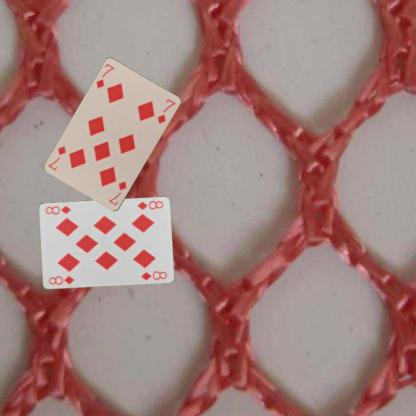7d: (106, 178, 128, 207), (94, 61, 116, 90)
8d: (135, 198, 164, 212), (46, 273, 75, 286)
